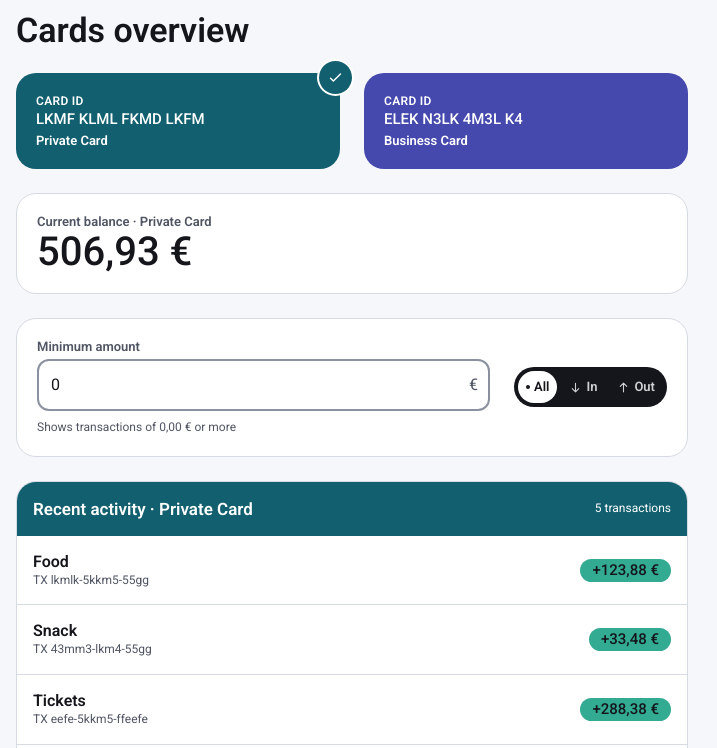
Test: Overview › runs the full happy path: load, default selection, filter, switch card
The width and height of the screenshot is (717, 748).
Expected: the heading "Current balance · Private Card" is shown, top-left (37, 214), bottom-right (212, 229)
Replace the text in the number field labelled "Minimum amount" with "1000": (264, 385) top-left (37, 359), bottom-right (490, 411)
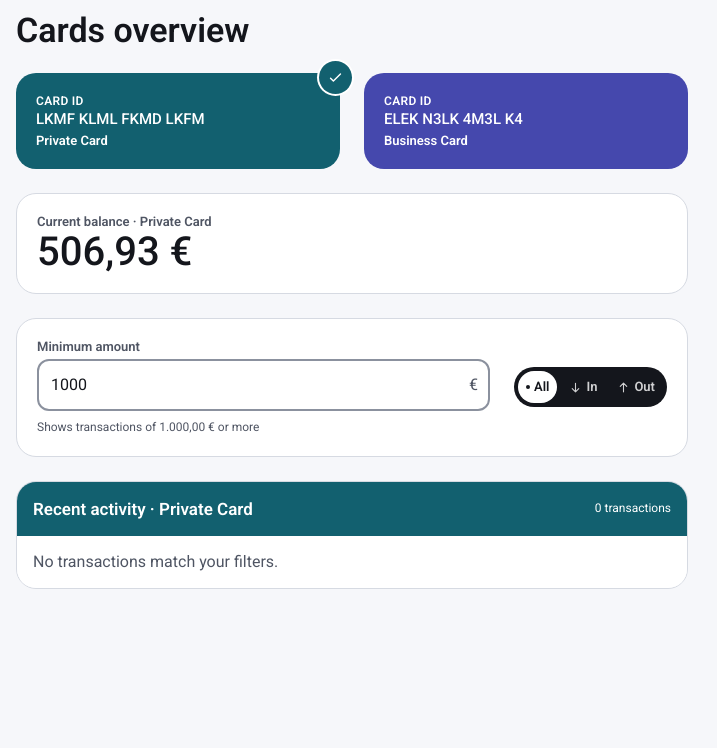
Expected: the list item "No transactions match your filters." is shown, top-left (33, 552), bottom-right (278, 571)
Click the button "CARD ID ELEK N3LK 4M3L K4 Business Card": (408, 101) top-left (364, 73), bottom-right (688, 169)
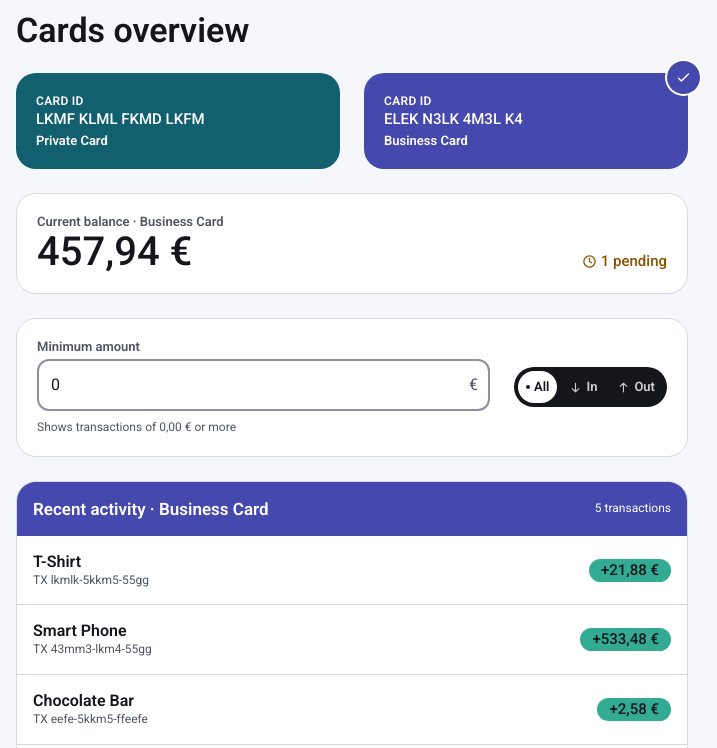
Expected: the number field labelled "Minimum amount" holds "0", top-left (37, 359), bottom-right (490, 411)
Expected: the heading "Recent activity · Business Card" is shown, top-left (33, 498), bottom-right (269, 520)
Expected: the text "T-Shirt" is shown, top-left (33, 552), bottom-right (81, 571)
Click the button "Out": (636, 387) top-left (609, 371), bottom-right (663, 403)
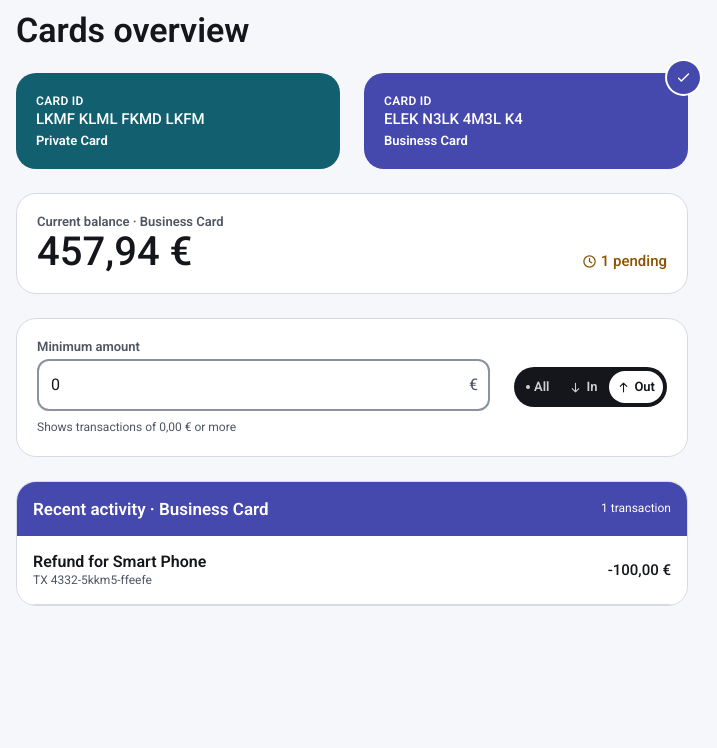
Expected: the text "Refund for Smart Phone" is shown, top-left (33, 552), bottom-right (206, 572)
Expected: the text "T-Shirt" is gone
